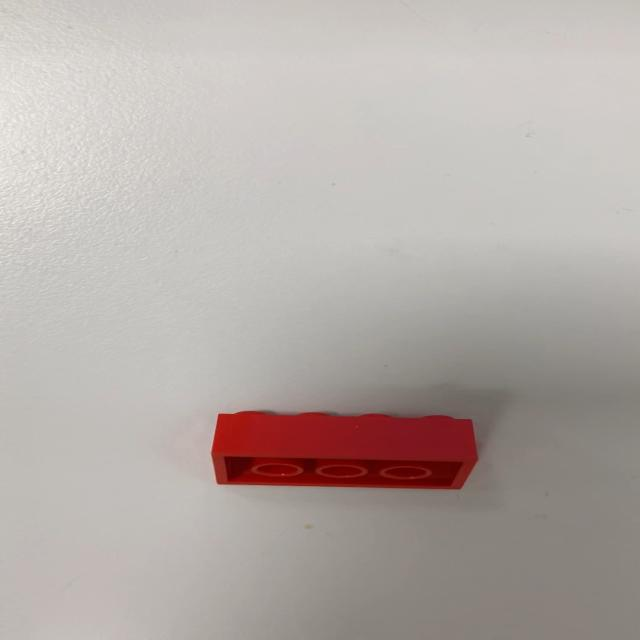P4x2x1: (210, 410, 480, 490)
